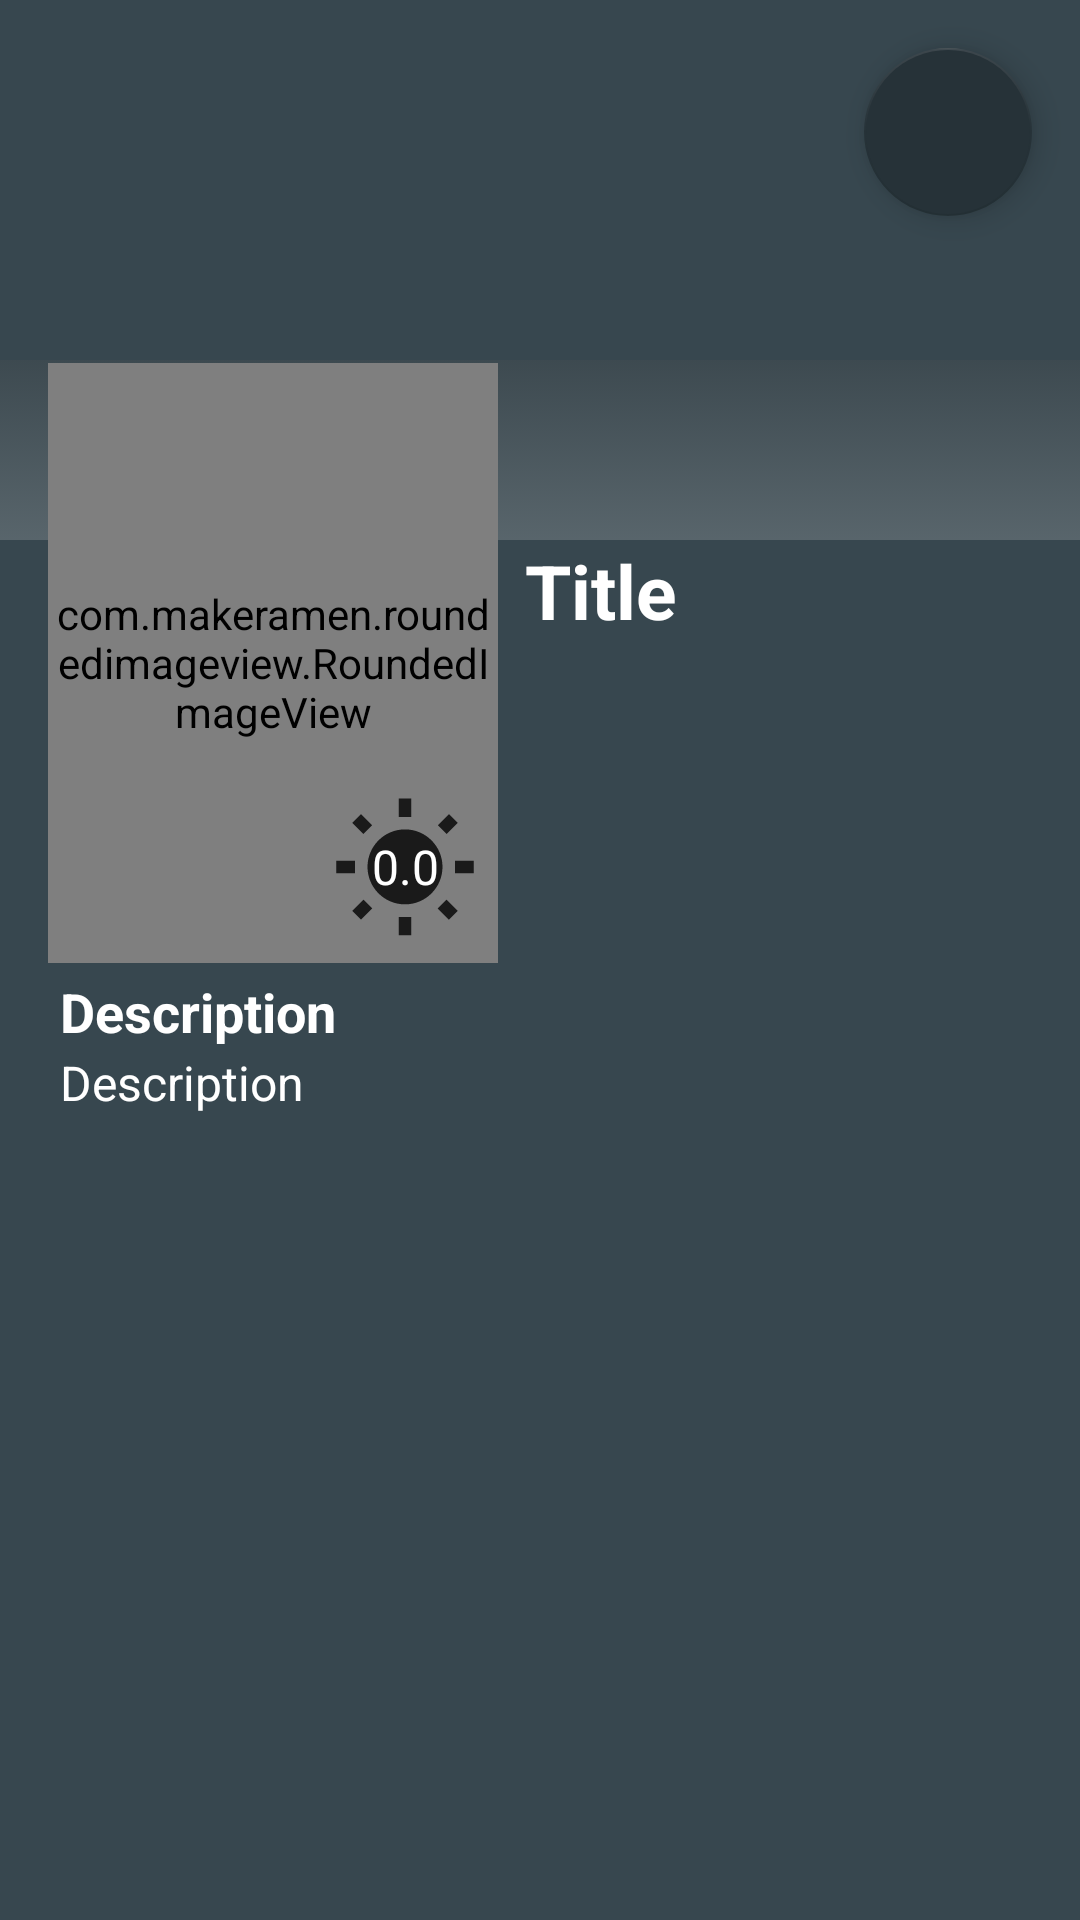

Where icons sit on this 1080w x 1920h app screen, as (x1, y1, x2, y2):
rating: (336, 798, 474, 936)
